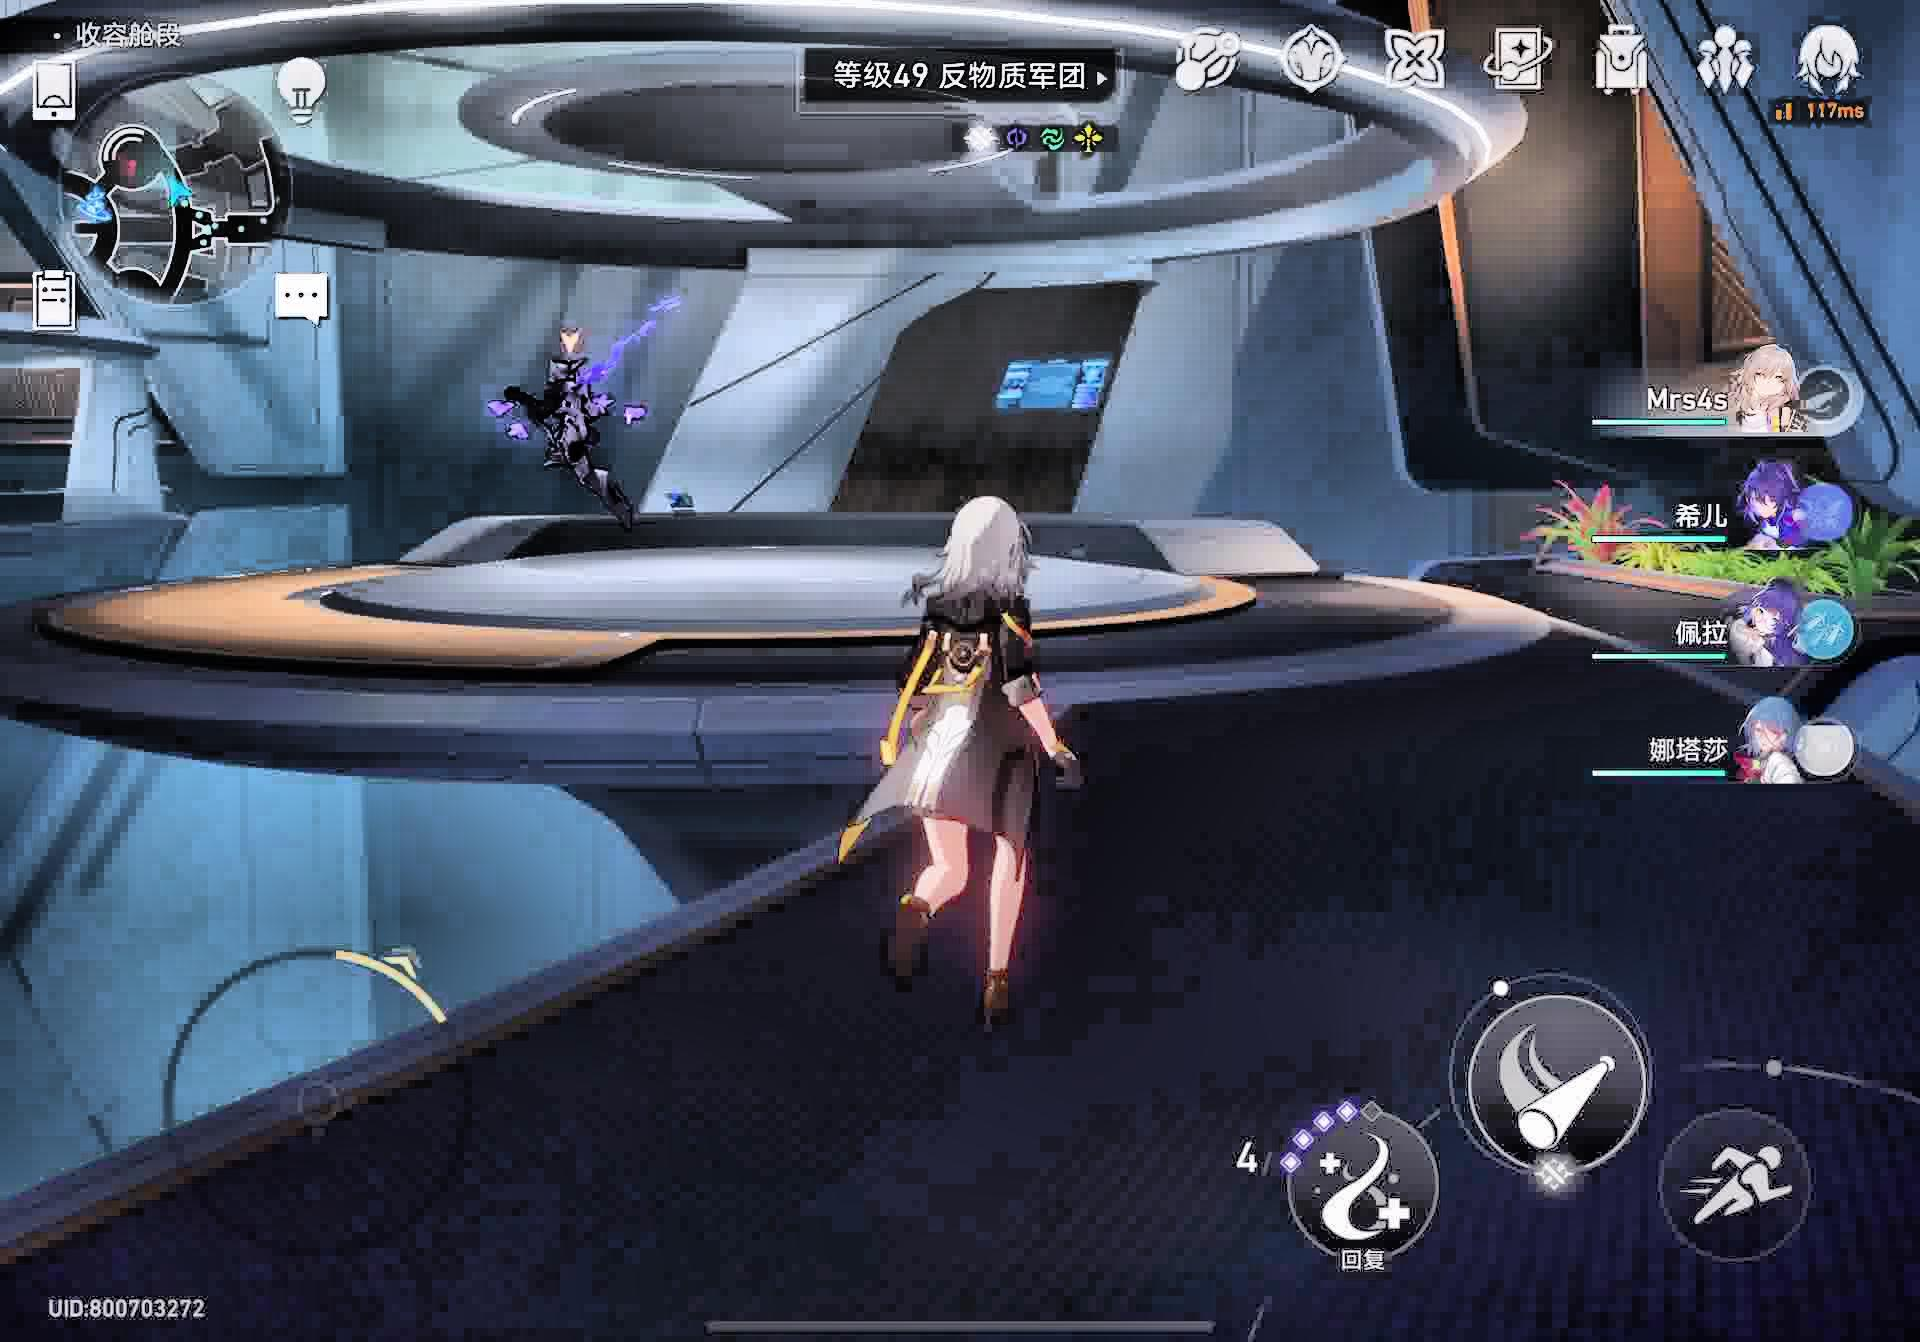Enemy: (480, 350, 665, 531)
Self: (843, 489, 1080, 1040)
